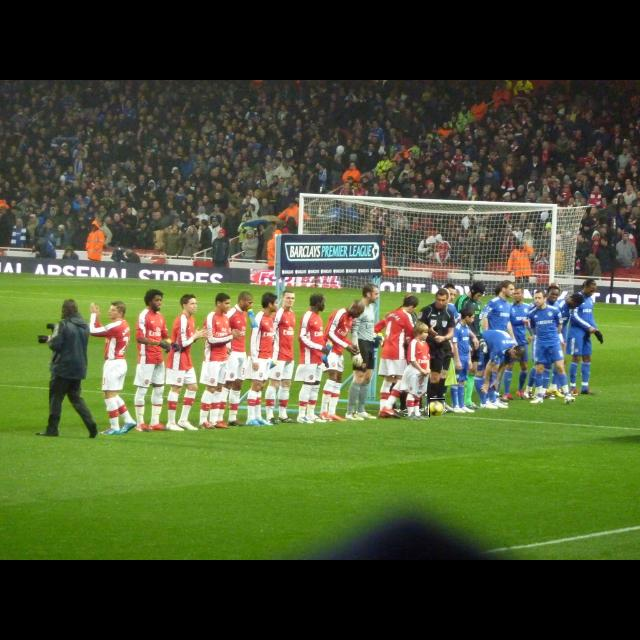Football: (429, 399, 445, 417)
